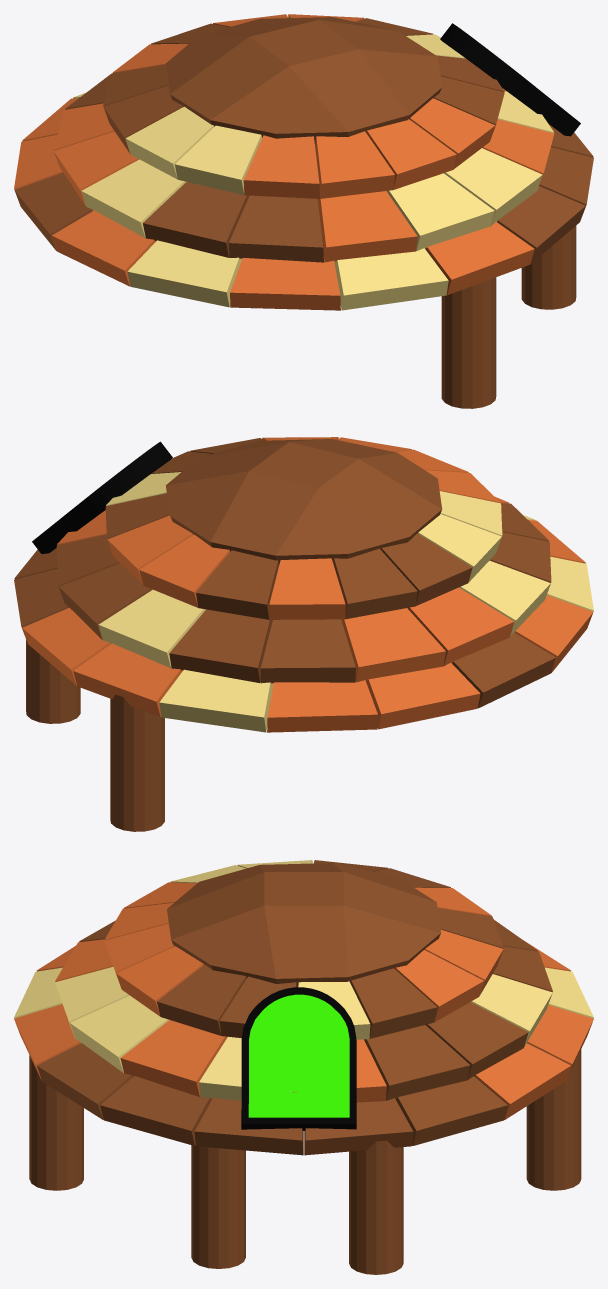
File: ANDStation.fbx
3 views of the same model, one above another, from view 1: azimuth 30°, elevation 25°; view 2: azimuth 150°, elevation 25°; view 3: azimuth 270°, elevation 25° (orthographic).
Parts seen in each view (by area): view 1: ANDStation; view 2: ANDStation; view 3: ANDStation.
Part boxes in pixels (box(x1,y1,x2,y2)): ANDStation: box(14, 14, 593, 408); ANDStation: box(14, 437, 593, 831); ANDStation: box(14, 860, 593, 1274).
Size of the model in its own units: 1050 by 541 by 1050.
